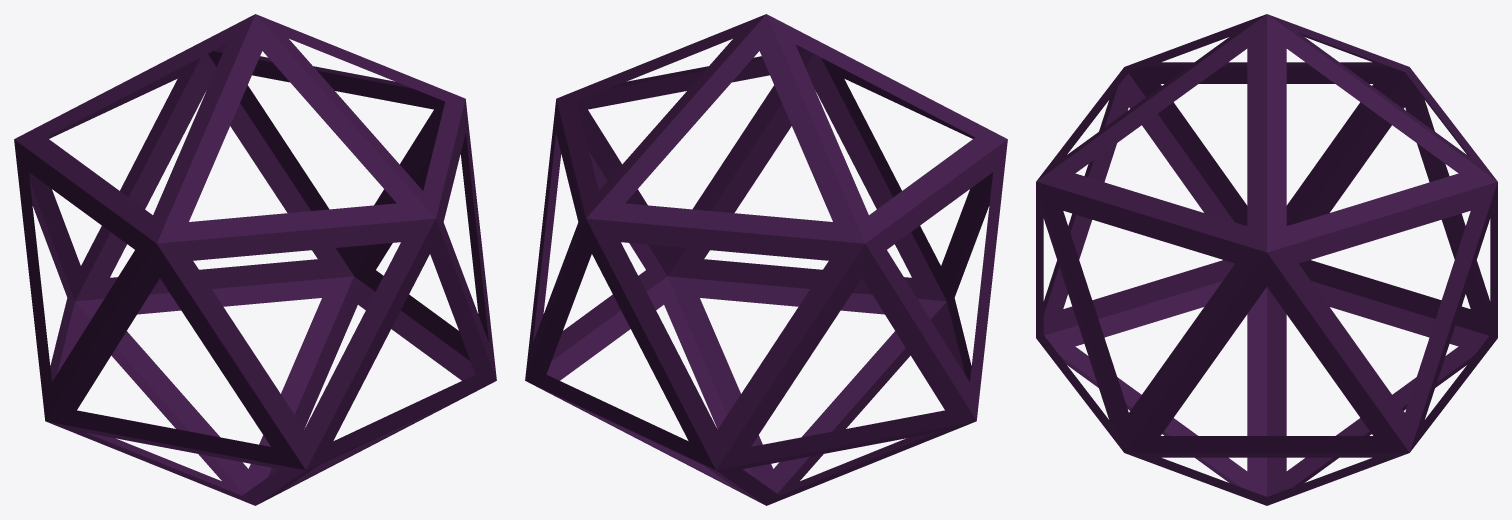
Rendered from liberation2.glb.
The picture shows the model from 3 angles, left to right: view 1: azimuth 30°, elevation 25°; view 2: azimuth 150°, elevation 25°; view 3: azimuth 270°, elevation 25°; orthographic projection.
Visible parts, largest first — view 1: Icosphere; view 2: Icosphere; view 3: Icosphere.
Part boxes in pixels (x1=…): Icosphere: x1=14, y1=14, x2=496, y2=505; Icosphere: x1=525, y1=14, x2=1007, y2=505; Icosphere: x1=1036, y1=14, x2=1497, y2=505.
Bounding box in the file's own units: 1.79 × 2 × 1.7.
